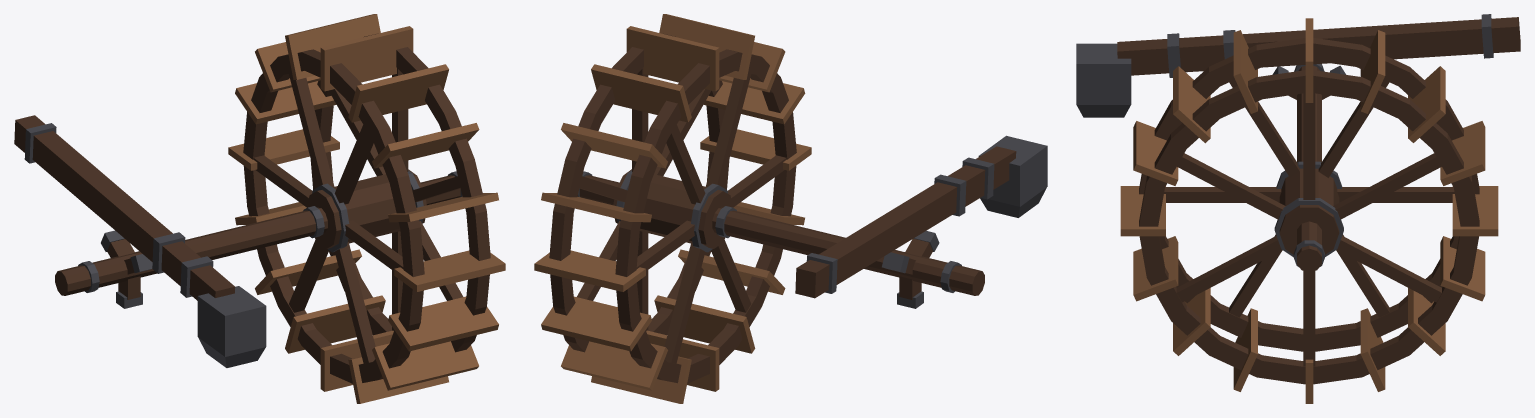
Rendered from LOBBY_VFX_MOVING_6c3d02.fbx.
3 renders of one model, left to right at view 1: azimuth 30°, elevation 25°; view 2: azimuth 150°, elevation 25°; view 3: azimuth 270°, elevation 25°, orthographic.
Visible parts, largest first — view 1: VFX_Roda__Wood_VM_Timber, VFX_Roda__Wood_VM_Plank, VFX_Martinete__Wood_VM_Timber, VFX_Martinete__Metal_VM_Iron, VFX_Roda__Metal_VM_Iron; view 2: VFX_Roda__Wood_VM_Timber, VFX_Roda__Wood_VM_Plank, VFX_Martinete__Wood_VM_Timber, VFX_Martinete__Metal_VM_Iron, VFX_Roda__Metal_VM_Iron; view 3: VFX_Roda__Wood_VM_Timber, VFX_Roda__Wood_VM_Plank, VFX_Martinete__Wood_VM_Timber, VFX_Martinete__Metal_VM_Iron, VFX_Roda__Metal_VM_Iron.
Part boxes in pixels (<box>): VFX_Roda__Wood_VM_Timber: <box>55,33,490,383</box>; VFX_Roda__Wood_VM_Plank: <box>228,14,505,403</box>; VFX_Martinete__Wood_VM_Timber: <box>14,115,235,300</box>; VFX_Martinete__Metal_VM_Iron: <box>24,123,266,367</box>; VFX_Roda__Metal_VM_Iron: <box>78,170,462,308</box>; VFX_Roda__Wood_VM_Timber: <box>549,33,984,383</box>; VFX_Roda__Wood_VM_Plank: <box>534,14,811,403</box>; VFX_Martinete__Wood_VM_Timber: <box>795,146,1016,298</box>; VFX_Martinete__Metal_VM_Iron: <box>806,135,1047,293</box>; VFX_Roda__Metal_VM_Iron: <box>577,170,961,308</box>; VFX_Roda__Wood_VM_Timber: <box>1139,38,1479,384</box>; VFX_Roda__Wood_VM_Plank: <box>1120,18,1498,403</box>; VFX_Martinete__Wood_VM_Timber: <box>1117,17,1520,75</box>; VFX_Martinete__Metal_VM_Iron: <box>1076,14,1493,117</box>; VFX_Roda__Metal_VM_Iron: <box>1272,64,1346,266</box>.
Bounding box in the file's own units: 19.7 × 15.8 × 18.59.
